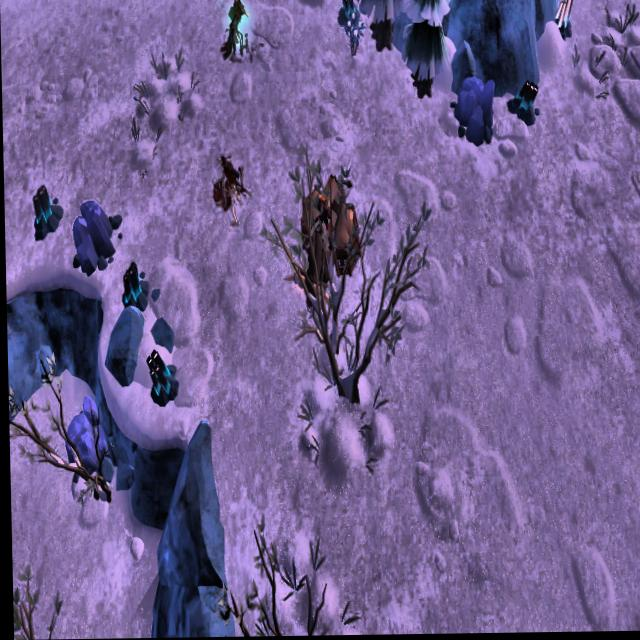enemy_factionUndead: (220, 0, 251, 62), (219, 152, 246, 221)
fiber_t4: (344, 12, 365, 64)
ore_t4: (146, 346, 173, 402), (30, 179, 53, 233), (120, 262, 143, 308), (515, 79, 541, 114), (555, 0, 575, 39), (341, 0, 355, 22)
rock_t4: (62, 387, 108, 481), (71, 194, 118, 278), (452, 69, 500, 143)
